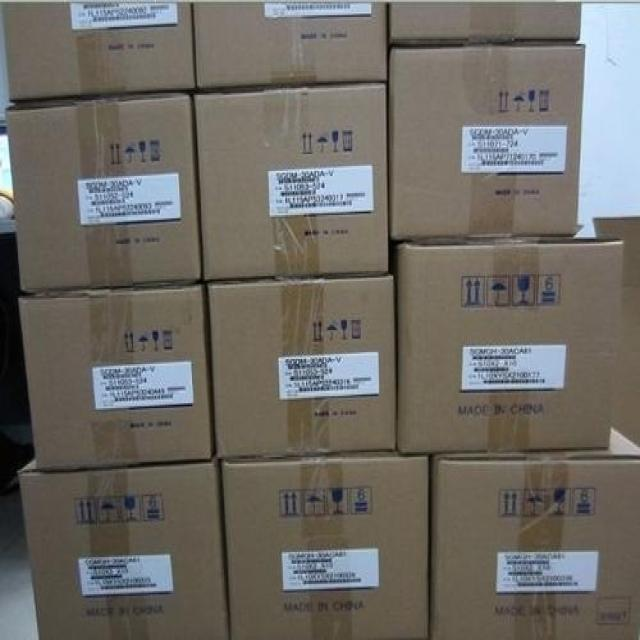box: (396, 235, 625, 455), (430, 427, 640, 640), (6, 90, 201, 295), (220, 452, 430, 640), (193, 81, 388, 283), (19, 454, 229, 640), (387, 46, 585, 239), (19, 281, 216, 471), (207, 273, 396, 459), (1, 2, 195, 102), (191, 0, 387, 88), (593, 217, 640, 447), (387, 0, 581, 44)
